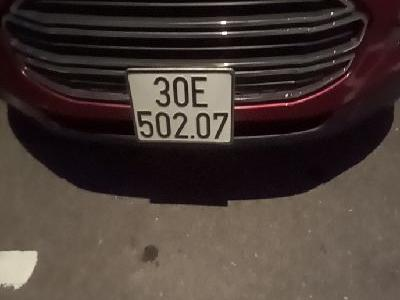number: (127, 67, 234, 144)
